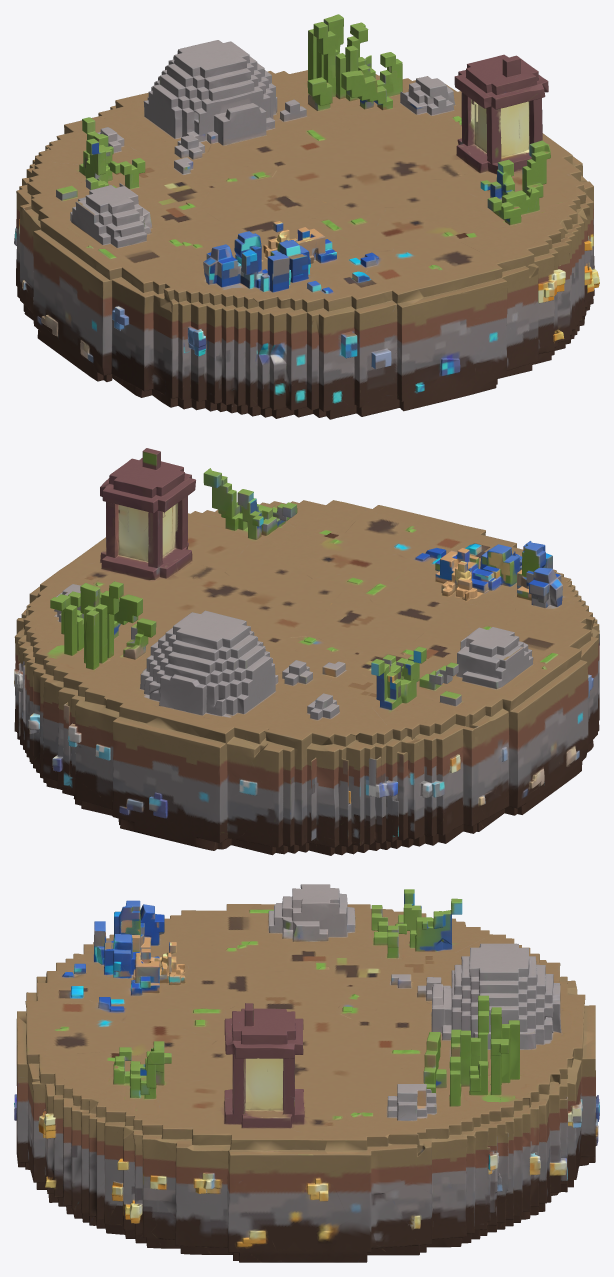
The model's file is pedestal.glb.
3 views of the same model, one above another, from view 1: azimuth 30°, elevation 25°; view 2: azimuth 150°, elevation 25°; view 3: azimuth 270°, elevation 25° (orthographic). The views are drawn at different scales.
Size of the model in its own units: 1.9 by 0.8048 by 1.9.
Materials: 1 (1 with a texture image).
